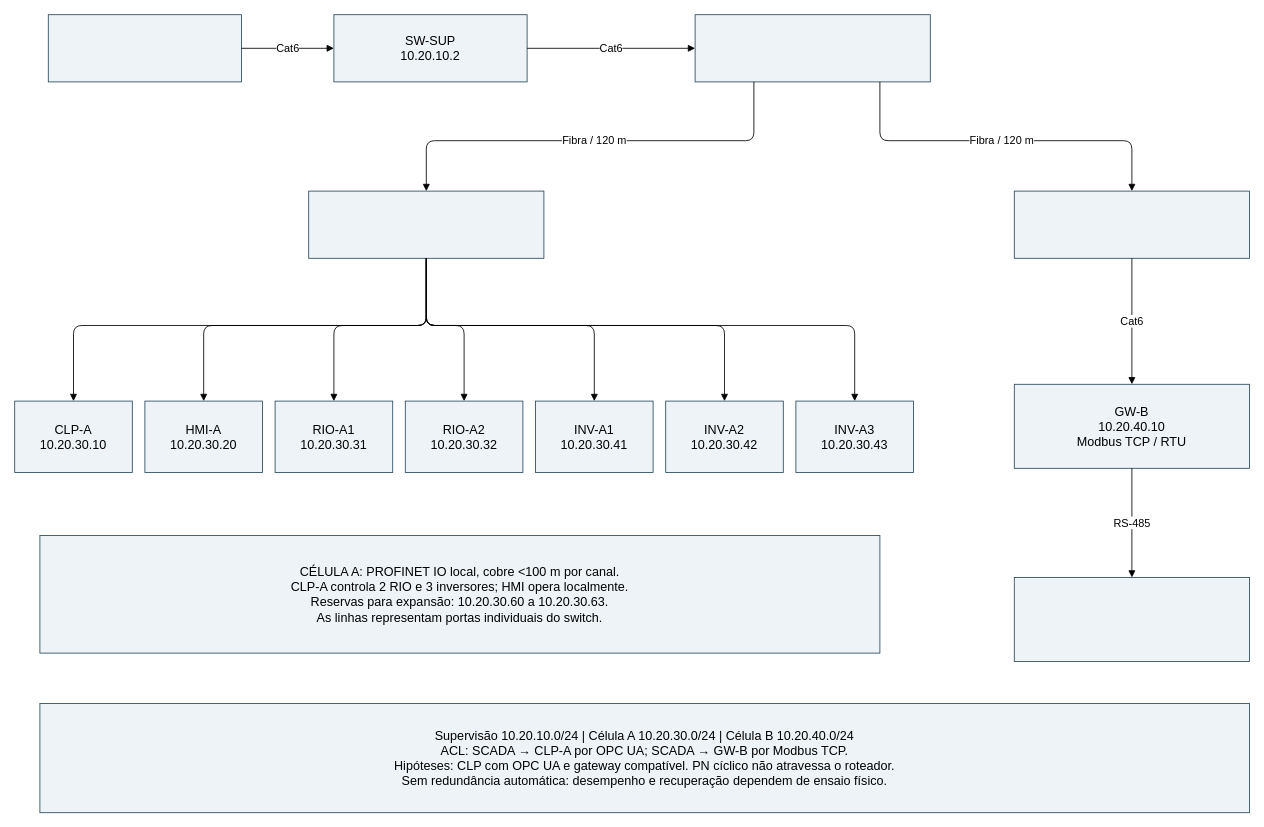
The diagram is 1264 pixels wide and 827 high, and some of its shapes have lost their labels. The centre of each missing label's shape, as x and y in pixels:
"CTRL-B RS-485 / RTU slave 5 Sem endereço IP" belongs at point 1131,619.
"FW-OT / ACL .1 em cada rede /24" belongs at point 812,48.
"SCADA 10.20.10.20/24" belongs at point 144,48.
"SW-A / Célula A 10.20.30.2/24" belongs at point 426,224.
"SW-B / Célula B 10.20.40.2/24" belongs at point 1131,224.
